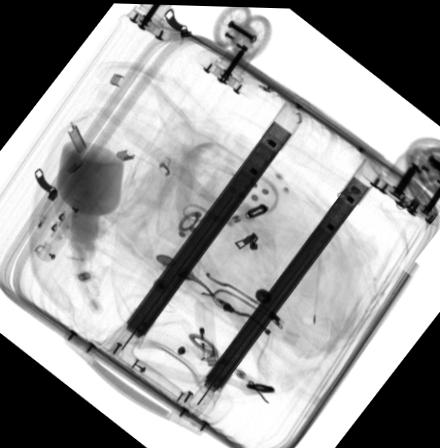Lighter: (190, 297, 219, 367)
